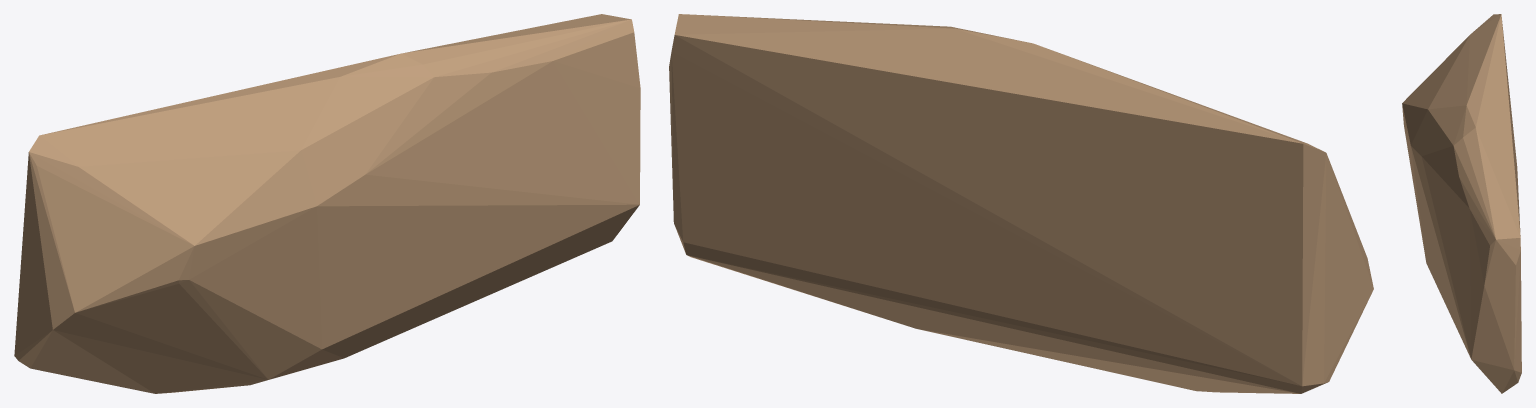
The model's file is ppe_gloves_cloth_a01.glb.
The picture shows the model from 3 angles, left to right: view 1: azimuth 30°, elevation 25°; view 2: azimuth 150°, elevation 25°; view 3: azimuth 270°, elevation 25°; orthographic projection. The views are drawn at different scales.
Visible parts, largest first — view 1: geometry_0; view 2: geometry_0; view 3: geometry_0.
Boxes of the visible parts, box(x1,y1,x2,y2) form: geometry_0: box(14, 14, 640, 393); geometry_0: box(669, 14, 1373, 393); geometry_0: box(1402, 14, 1521, 393).
Size of the model in its own units: 0.4598 by 0.2027 by 0.1073.
